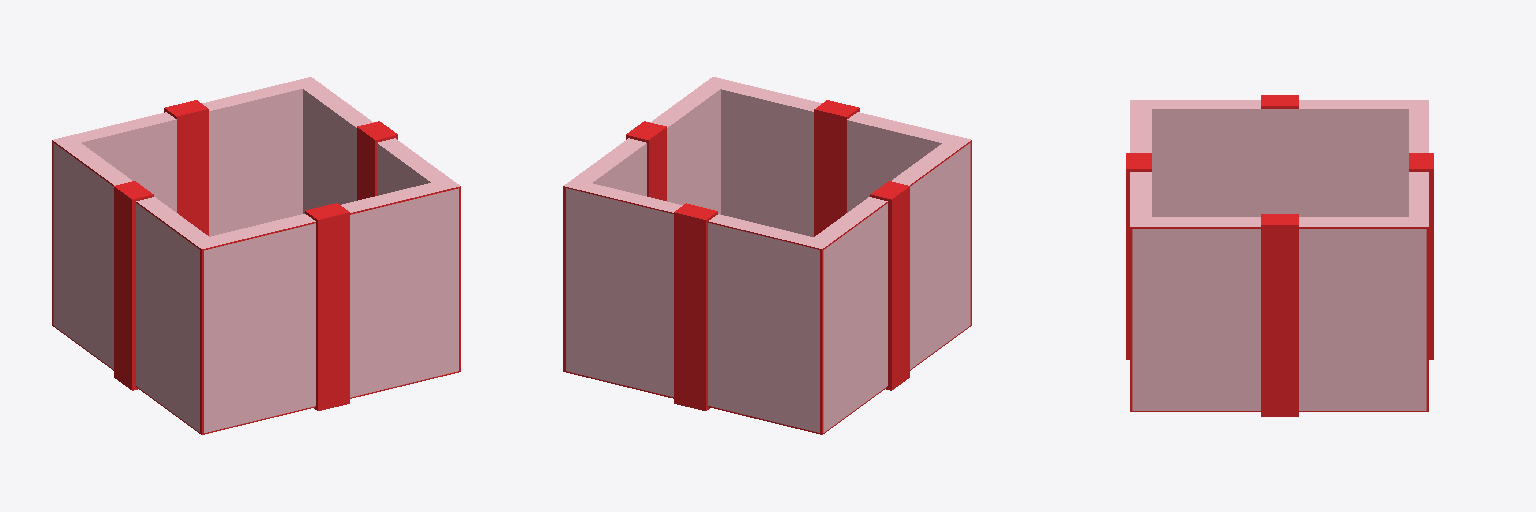
3 renders of one model, left to right at view 1: azimuth 30°, elevation 25°; view 2: azimuth 150°, elevation 25°; view 3: azimuth 270°, elevation 25°, orthographic.
Visible parts, largest first — view 1: Cubo.017_Cubo.027, Cubo.016_Cubo.026, Cubo.009_Cubo.025; view 2: Cubo.017_Cubo.027, Cubo.016_Cubo.026, Cubo.009_Cubo.025; view 3: Cubo.017_Cubo.027, Cubo.009_Cubo.025, Cubo.016_Cubo.026.
Boxes of the visible parts, box(x1,y1,x2,y2) form: Cubo.017_Cubo.027: box(52, 77, 460, 434); Cubo.016_Cubo.026: box(164, 100, 349, 410); Cubo.009_Cubo.025: box(114, 121, 397, 390); Cubo.017_Cubo.027: box(563, 77, 971, 434); Cubo.016_Cubo.026: box(674, 100, 859, 410); Cubo.009_Cubo.025: box(626, 121, 909, 390); Cubo.017_Cubo.027: box(1130, 100, 1428, 411); Cubo.009_Cubo.025: box(1261, 95, 1298, 416); Cubo.016_Cubo.026: box(1126, 153, 1433, 359).
Bounding box in the file's own units: 2.05 × 1.41 × 2.05.
Materials: 3 (2 with a texture image).